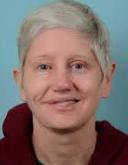strokeEyeWeak: (33, 55, 93, 75)
strokeMouthMid: (39, 94, 85, 115)
